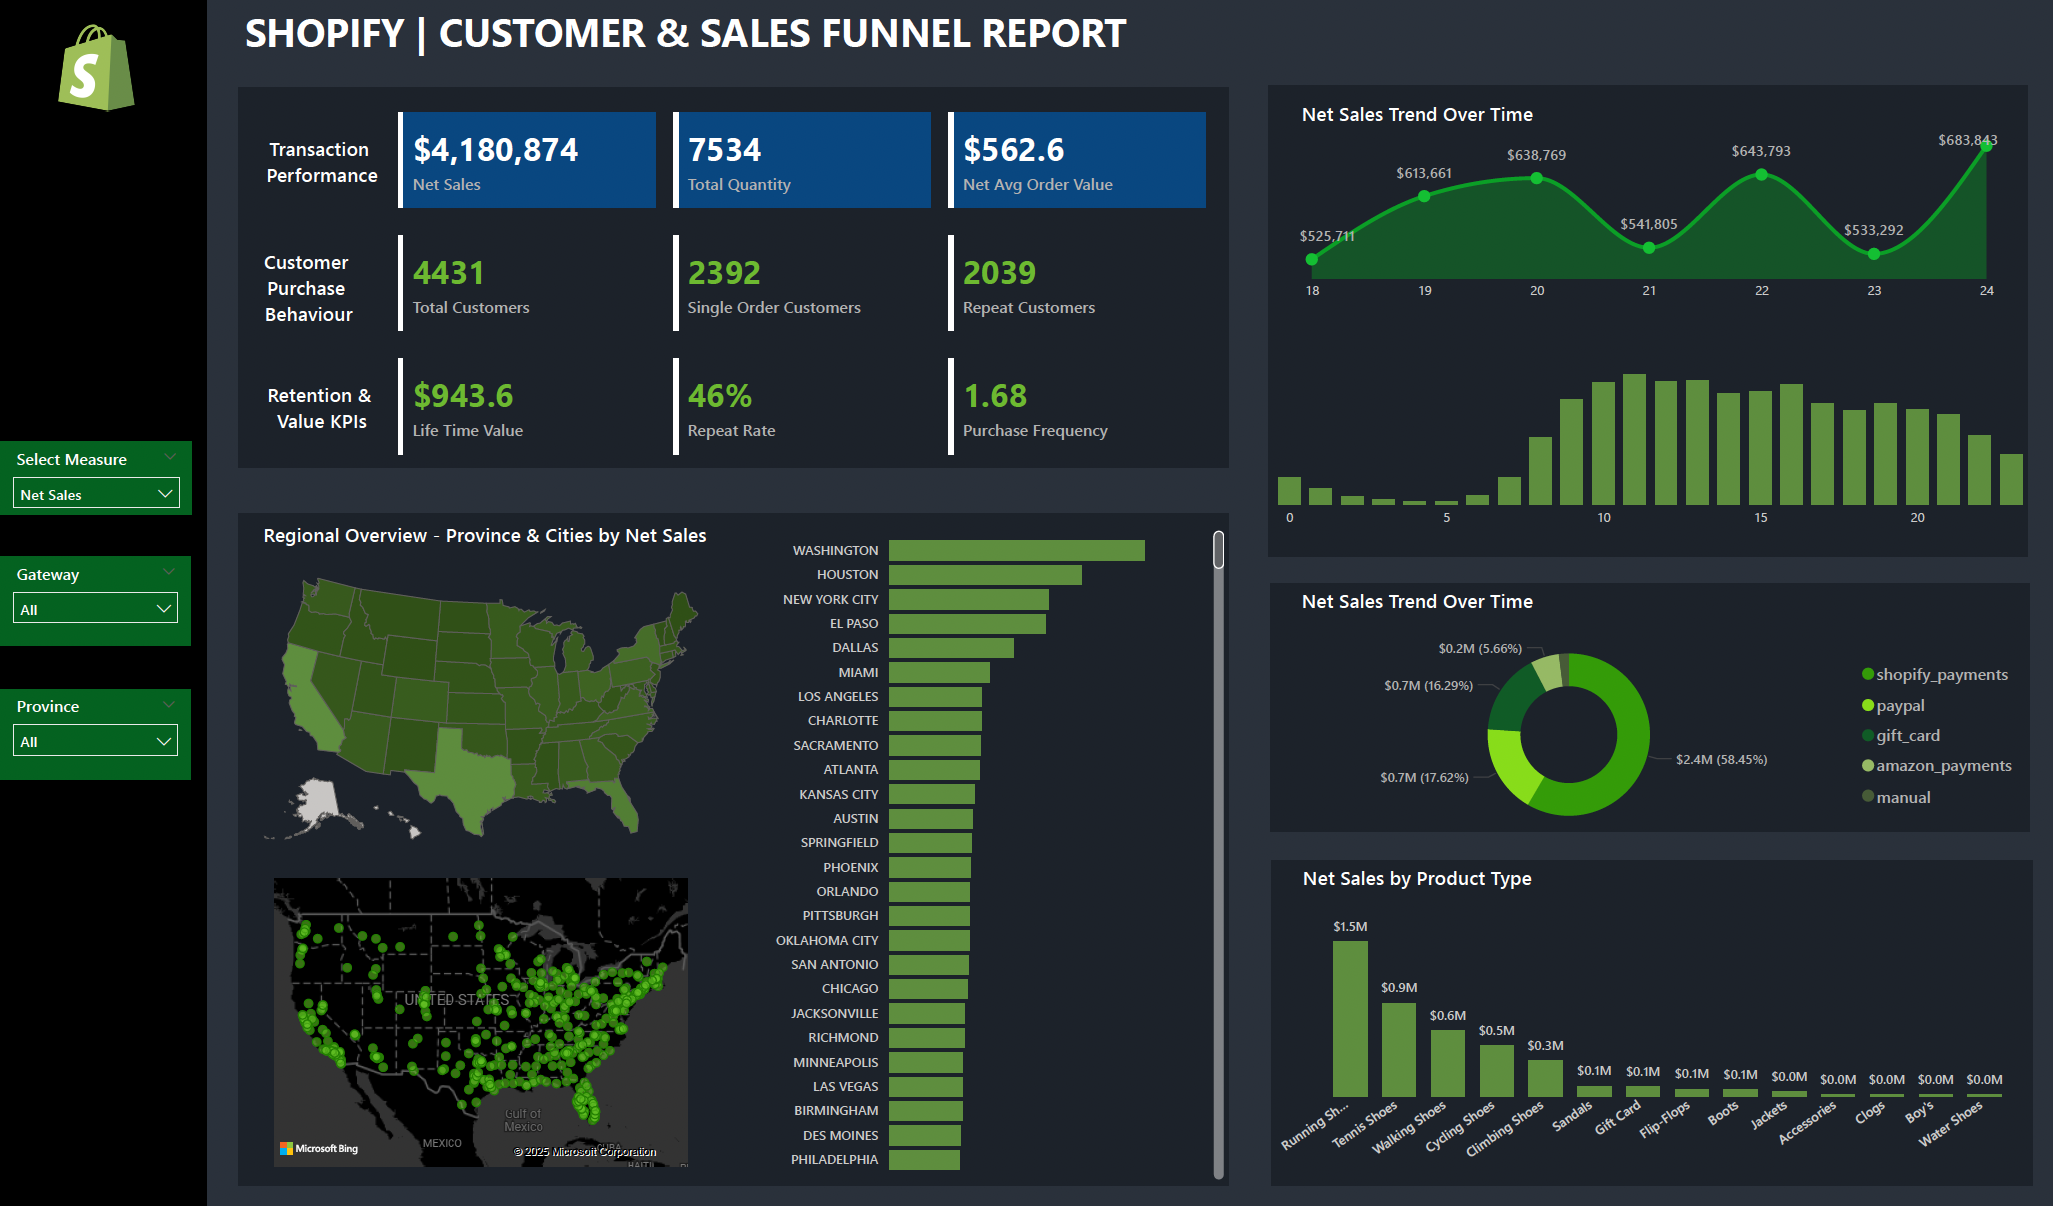

The page's visual inventory and layout, read from the dashboard file:
{"tool":"powerbi","page":{"name":"Shopify Analysis","canvas":[1700,1000],"ordinal":0},"visuals":[{"type":"shape","box":[0,0,170,1000.5],"z":0},{"type":"textbox","box":[196.8,0,756.3,72.9],"z":1000},{"type":"shape","box":[196.8,72.9,820.1,315.3],"z":2000},{"type":"cardVisual","fields":{"Data":["shopify_sales.Net Sales","shopify_sales.Total Quantity","shopify_sales.Net Avg Order Value"]},"box":[324.4,89.3,679.8,89.3],"z":3000},{"type":"card","fields":{"Values":["shopify_sales.Transaction Performance"]},"box":[196.8,89.3,138.5,89.3],"z":4000},{"type":"cardVisual","fields":{"Data":["shopify_sales.Total Customers","shopify_sales.Single Order Customers","shopify_sales.Repeat Customers"]},"box":[324.4,191.4,679.8,89.3],"z":5000},{"type":"card","fields":{"Values":["shopify_sales.Customer Purchase Behaviour"]},"box":[185.9,191.4,138.5,89.3],"z":6000},{"type":"cardVisual","fields":{"Data":["shopify_sales.Life Time Value","shopify_sales.Repeat Rate","shopify_sales.Purchase Frequency"]},"box":[324.4,293.4,679.8,89.3],"z":7000},{"type":"card","fields":{"Values":["shopify_sales.Retention & Value KPIs"]},"box":[196.8,293.4,138.5,89.3],"z":8000},{"type":"shape","box":[196.6,425.9,820.7,556.9],"z":9000},{"type":"shapeMap","fields":{"Value":["shopify_sales.Net Sales"],"Category":["shopify_sales.Billing Address Province"]},"box":[170,462.9,455.7,250],"z":10000},{"type":"slicer","fields":{"Values":["Select Measure.Select Measure"]},"box":[0,367,157.5,60.3],"z":11000},{"type":"map","fields":{"Category":["shopify_sales.Location"]},"box":[222.4,724.1,351.7,248.3],"z":12000},{"type":"clusteredBarChart","fields":{"Y":["shopify_sales.Net Sales"],"Category":["shopify_sales.CITY"]},"box":[625,427.5,392.5,555],"z":13000},{"type":"card","fields":{"Values":["shopify_sales.Map Title"]},"box":[196.6,427.6,408.6,36.2],"z":14000},{"type":"shape","box":[1050,72.4,629.3,389.7],"z":15000},{"type":"areaChart","fields":{"Y":["shopify_sales.Net Sales"],"Category":["shopify_sales.Invoice Date.Variation.Date Hierarchy.Day"]},"box":[1070.7,98.3,589.7,160.3],"z":16000},{"type":"columnChart","fields":{"Y":["shopify_sales.Net Sales"],"Category":["shopify_sales.Hour"]},"box":[1051.7,269,629.3,177.6],"z":17000},{"type":"card","fields":{"Values":["shopify_sales.Trend Title"]},"box":[1050,79.3,246.6,36.2],"z":18000},{"type":"shape","box":[1051.7,484.5,629.3,205.2],"z":19000},{"type":"donutChart","fields":{"Y":["shopify_sales.Net Sales"],"Category":["shopify_sales.Gateway"]},"box":[1051.7,519,629.3,181],"z":20000},{"type":"card","fields":{"Values":["shopify_sales.Trend Title"]},"box":[1050,482.8,246.6,36.2],"z":21000},{"type":"shape","box":[1053.4,713.8,629.3,269],"z":22000},{"type":"columnChart","fields":{"Y":["shopify_sales.Net Sales"],"Category":["shopify_sales.Product Type"]},"box":[1053.4,748.3,625.9,224.1],"z":23000},{"type":"card","fields":{"Values":["shopify_sales.Product Title"]},"box":[1050,712.1,246.6,36.2],"z":24000},{"type":"image","box":[24.1,15.5,110.3,82.8],"z":25000},{"type":"slicer","fields":{"Values":["shopify_sales.Gateway"]},"box":[0,462.1,156.9,74.1],"z":25001},{"type":"slicer","fields":{"Values":["shopify_sales.Billing Address Province"]},"box":[0,572.4,156.9,74.1],"z":25002}]}

Visuals, with their boxes on the page's 1700x1000 design canvas (x1, y1, x2, y2). These are canvas units, not pixel positions in the 2058x1208 screenshot, which may show the page scaled, cropped or inside an application window:
shape: box(0, 0, 170, 1000)
textbox: box(197, 0, 953, 73)
shape: box(197, 73, 1017, 388)
cardVisual - shopify_sales.Net Sales x shopify_sales.Total Quantity: box(324, 89, 1004, 179)
card - shopify_sales.Transaction Performance: box(197, 89, 335, 179)
cardVisual - shopify_sales.Total Customers x shopify_sales.Single Order Customers: box(324, 191, 1004, 281)
card - shopify_sales.Customer Purchase Behaviour: box(186, 191, 324, 281)
cardVisual - shopify_sales.Life Time Value x shopify_sales.Repeat Rate: box(324, 293, 1004, 383)
card - shopify_sales.Retention & Value KPIs: box(197, 293, 335, 383)
shape: box(197, 426, 1017, 983)
shapeMap - shopify_sales.Net Sales x shopify_sales.Billing Address Province: box(170, 463, 626, 713)
slicer - Select Measure.Select Measure: box(0, 367, 158, 427)
map - shopify_sales.Location: box(222, 724, 574, 972)
clusteredBarChart - shopify_sales.Net Sales x shopify_sales.CITY: box(625, 428, 1018, 982)
card - shopify_sales.Map Title: box(197, 428, 605, 464)
shape: box(1050, 72, 1679, 462)
areaChart - shopify_sales.Net Sales x shopify_sales.Invoice Date.Variation.Date Hierarchy.Day: box(1071, 98, 1660, 259)
columnChart - shopify_sales.Net Sales x shopify_sales.Hour: box(1052, 269, 1681, 447)
card - shopify_sales.Trend Title: box(1050, 79, 1297, 116)
shape: box(1052, 484, 1681, 690)
donutChart - shopify_sales.Net Sales x shopify_sales.Gateway: box(1052, 519, 1681, 700)
card - shopify_sales.Trend Title: box(1050, 483, 1297, 519)
shape: box(1053, 714, 1683, 983)
columnChart - shopify_sales.Net Sales x shopify_sales.Product Type: box(1053, 748, 1679, 972)
card - shopify_sales.Product Title: box(1050, 712, 1297, 748)
image: box(24, 16, 134, 98)
slicer - shopify_sales.Gateway: box(0, 462, 157, 536)
slicer - shopify_sales.Billing Address Province: box(0, 572, 157, 646)
